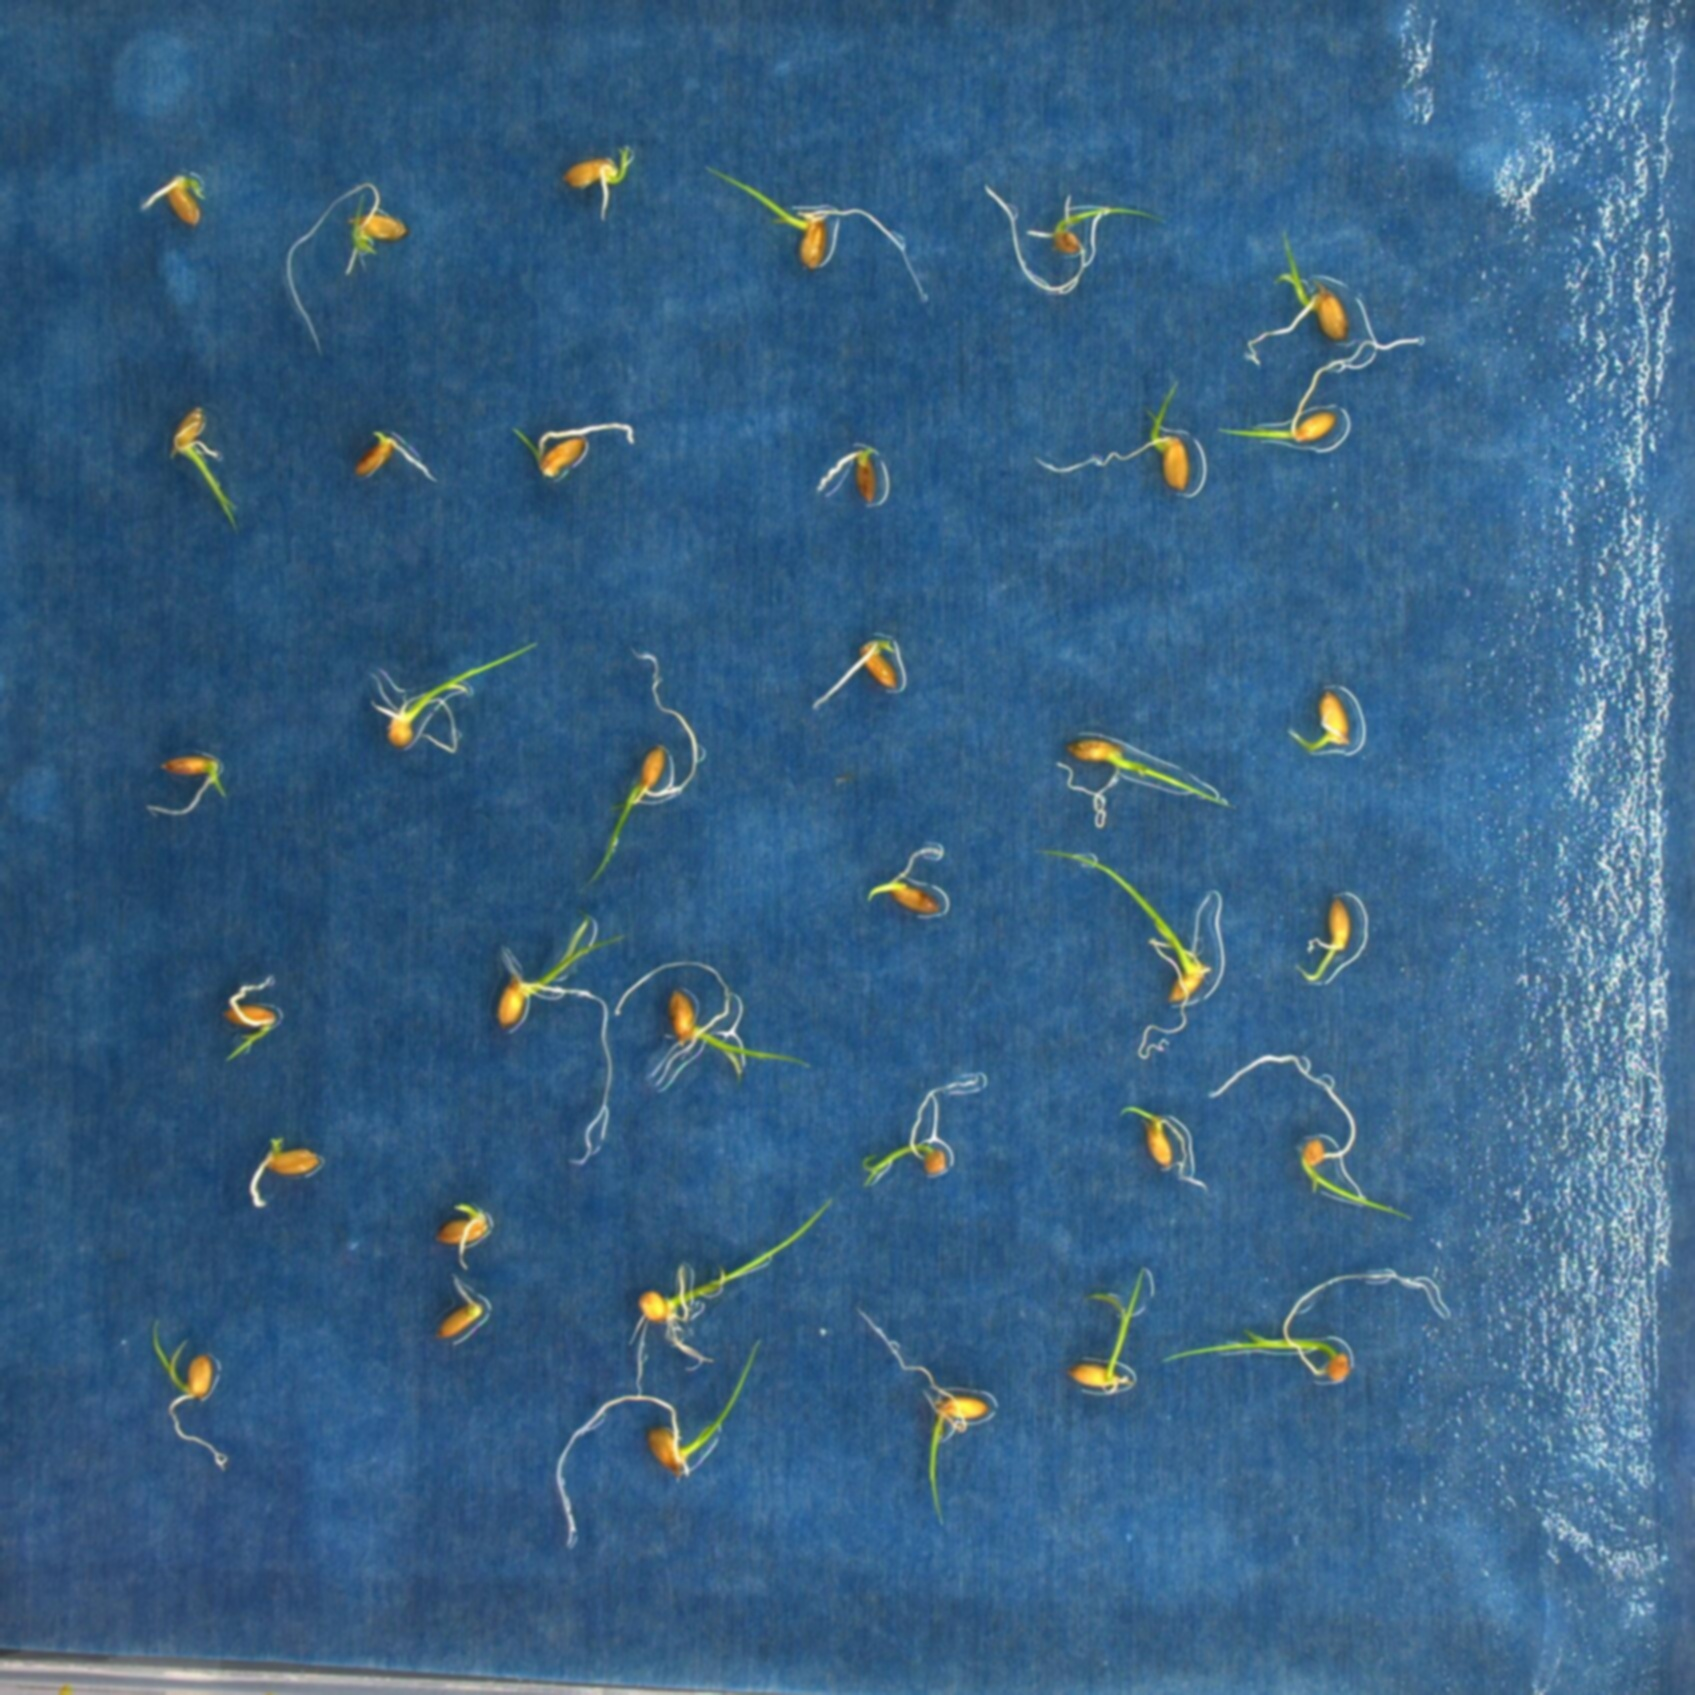not sprout: (247, 1138, 323, 1208), (354, 428, 439, 483), (816, 445, 877, 504), (435, 1273, 486, 1341)
sprout: (556, 1333, 764, 1548), (633, 1197, 834, 1391), (1034, 847, 1212, 1060), (1208, 1054, 1412, 1220), (495, 914, 627, 1166), (1159, 1271, 1447, 1385), (705, 166, 927, 301), (858, 1305, 993, 1524), (588, 647, 698, 886), (613, 958, 810, 1085), (1218, 337, 1425, 445), (286, 180, 407, 354), (986, 185, 1166, 295), (371, 641, 539, 754), (1035, 380, 1194, 494), (1054, 737, 1231, 830), (1246, 230, 1350, 369), (861, 1076, 983, 1187), (151, 1318, 227, 1468), (1066, 1267, 1149, 1392), (171, 407, 237, 528), (1121, 1107, 1211, 1194), (512, 421, 633, 480), (810, 636, 899, 708), (563, 144, 632, 224), (866, 846, 945, 914), (1293, 896, 1352, 986), (224, 973, 279, 1065), (144, 753, 227, 815), (1288, 691, 1354, 754), (438, 1201, 494, 1270), (141, 172, 203, 227)
